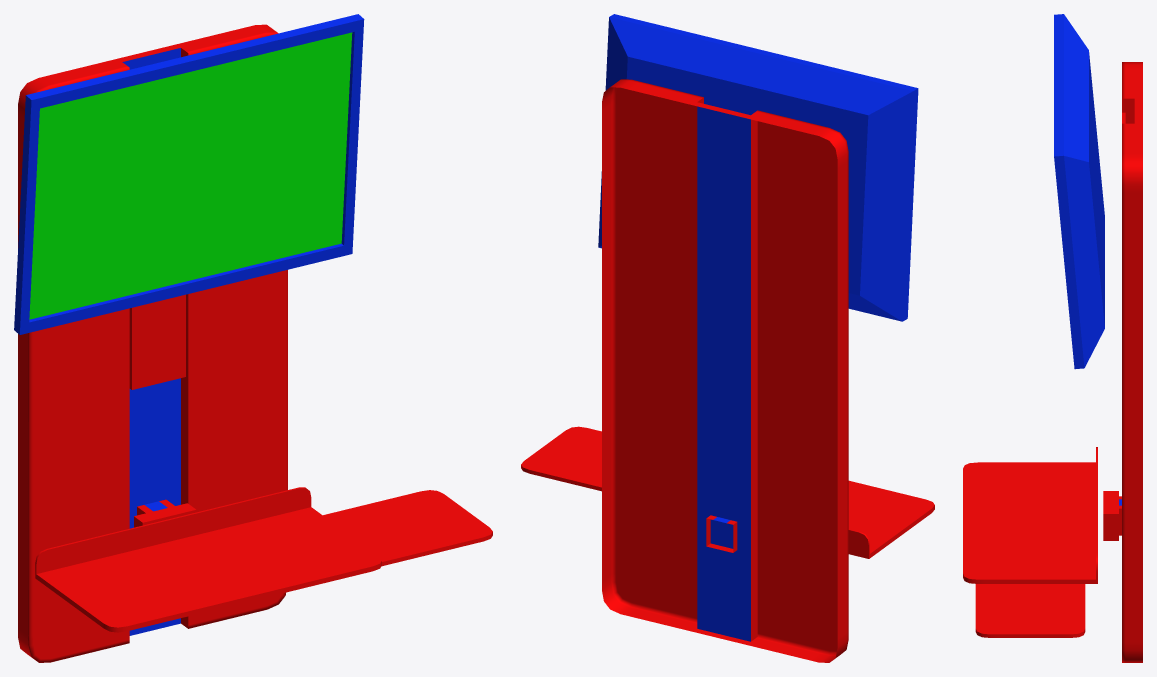
Rendered from Wallmounted Workstation.FBX.
3 renders of one model, left to right at view 1: azimuth 30°, elevation 25°; view 2: azimuth 150°, elevation 25°; view 3: azimuth 270°, elevation 25°, orthographic. The views are drawn at different scales.
Visible parts, largest first — view 1: Wallmounted Workstation, Tray; view 2: Wallmounted Workstation, Tray; view 3: Wallmounted Workstation, Tray.
Part boxes in pixels (<box>): Wallmounted Workstation: <box>14,14,364,662</box>; Tray: <box>35,487,492,632</box>; Wallmounted Workstation: <box>598,14,918,662</box>; Tray: <box>521,426,934,558</box>; Wallmounted Workstation: <box>1054,14,1142,662</box>; Tray: <box>963,447,1121,637</box>.
Size of the model in its own units: 28.78 by 39.49 by 12.18.
